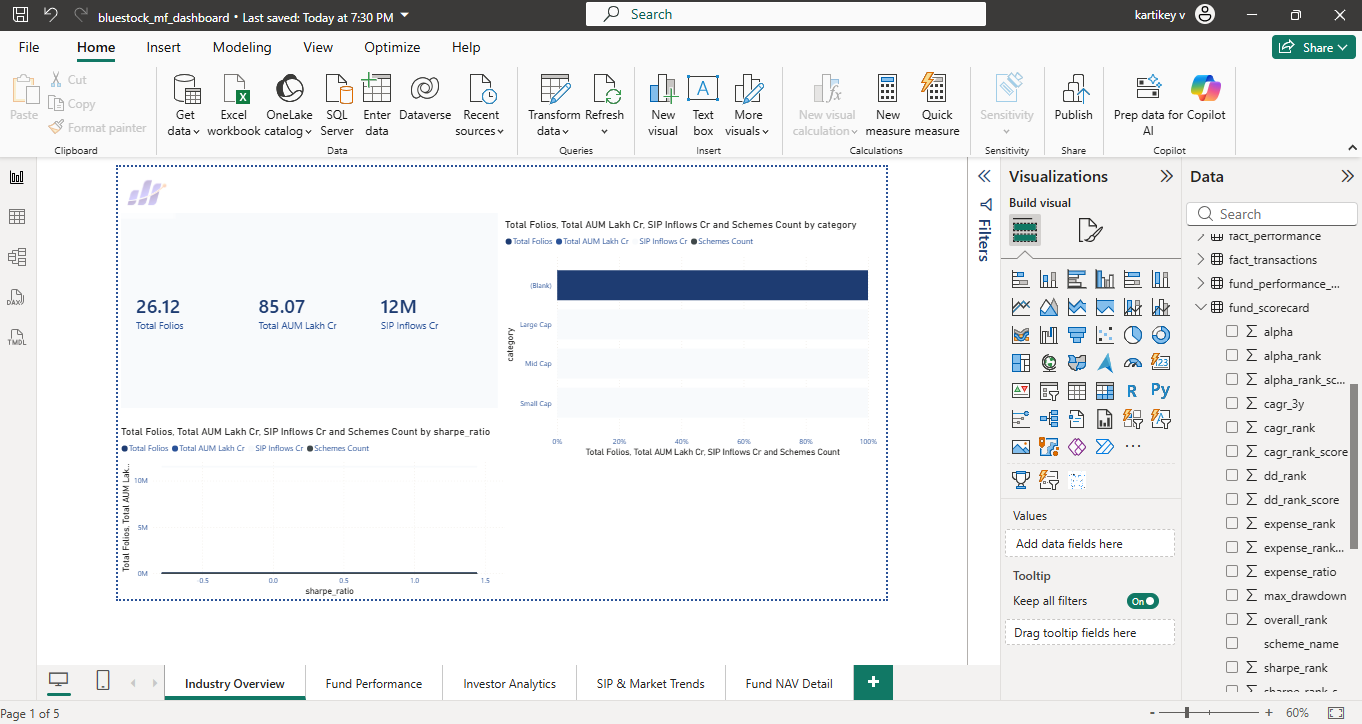

This screenshot's page, from the dashboard's own definition file:
{"tool":"powerbi","page":{"name":"Industry Overview","canvas":[1280,720],"ordinal":0},"visuals":[{"type":"cardVisual","fields":{"Data":["alpha_beta.Total Folios","alpha_beta.Total AUM Lakh Cr","alpha_beta.SIP Inflows Cr"]},"box":[0,71.7,640,335],"z":0},{"type":"image","box":[0,0,95.7,85.7],"z":1},{"type":"lineChart","fields":{"Y":["alpha_beta.Total Folios","alpha_beta.Total AUM Lakh Cr","alpha_beta.SIP Inflows Cr","alpha_beta.Schemes Count"],"Category":["fund_scorecard.sharpe_ratio"]},"box":[0,430,650.1,290.6],"z":2},{"type":"hundredPercentStackedBarChart","fields":{"Y":["alpha_beta.Total Folios","alpha_beta.Total AUM Lakh Cr","alpha_beta.SIP Inflows Cr","alpha_beta.Schemes Count"],"Category":["dim_fund.category","fund_scorecard.scheme_name"]},"box":[640,85,630,403.3],"z":3}]}

Visuals, with their boxes on the page's 1280x720 design canvas (x1, y1, x2, y2). These are canvas units, not pixel positions in the 1362x724 screenshot, which may show the page scaled, cropped or inside an application window:
cardVisual - alpha_beta.Total Folios x alpha_beta.Total AUM Lakh Cr: crop(0, 72, 640, 407)
image: crop(0, 0, 96, 86)
lineChart - alpha_beta.Total Folios x alpha_beta.Total AUM Lakh Cr: crop(0, 430, 650, 721)
hundredPercentStackedBarChart - alpha_beta.Total Folios x alpha_beta.Total AUM Lakh Cr: crop(640, 85, 1270, 488)
